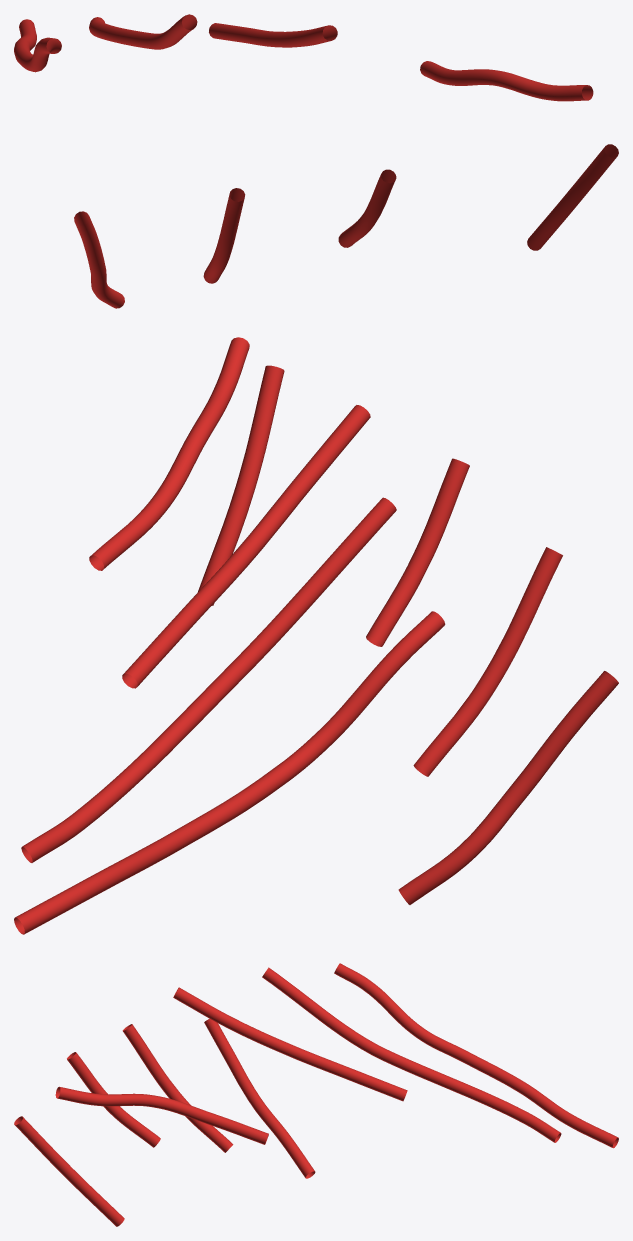
File: circulatorio-intercapitular-veins-of-foot-r.glb
The picture shows the model from 3 angles, top to bottom: view 1: azimuth 30°, elevation 25°; view 2: azimuth 150°, elevation 25°; view 3: azimuth 270°, elevation 25°; orthographic projection. The views are drawn at different scales.
Visible parts, largest first — view 1: Intercapitular veins of foot.r; view 2: Intercapitular veins of foot.r; view 3: Intercapitular veins of foot.r.
Part boxes in pixels (<box>): Intercapitular veins of foot.r: <box>14,14,618,308</box>; Intercapitular veins of foot.r: <box>14,337,618,934</box>; Intercapitular veins of foot.r: <box>14,963,618,1226</box>.
Size of the model in its own units: 0.0423 by 0.0305 by 0.0706.
